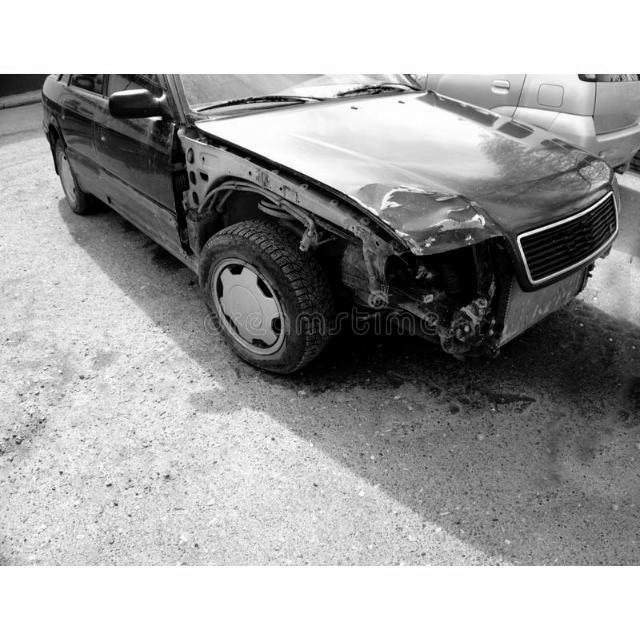bonnet-dent: (286, 91, 530, 255)
